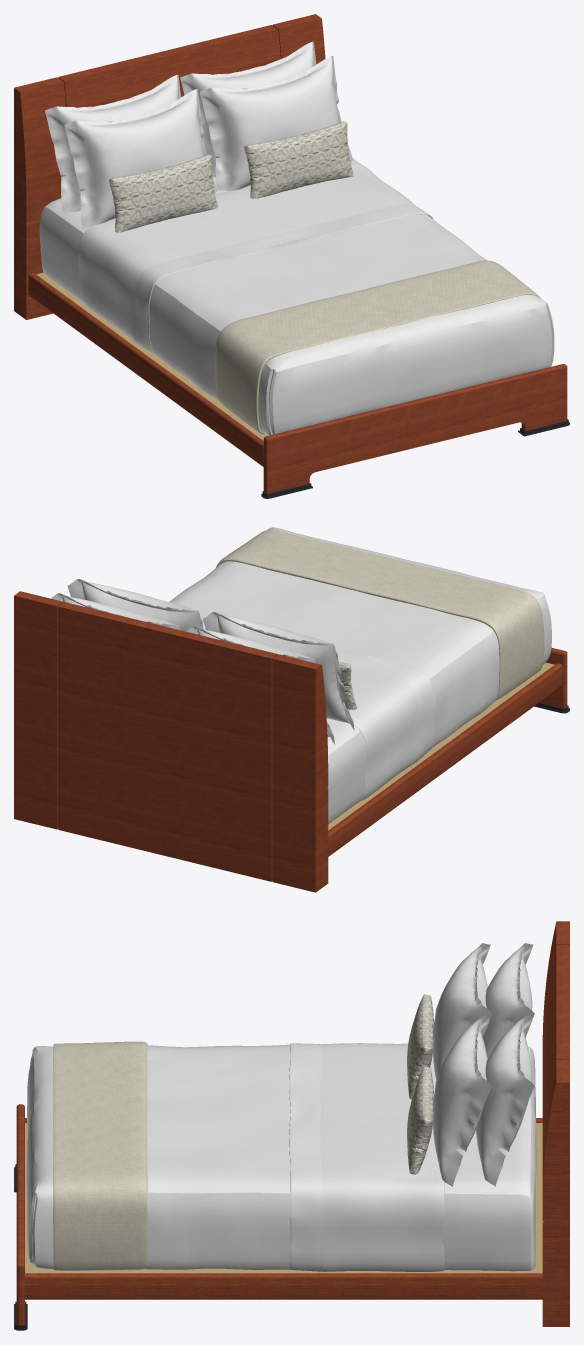
The model's file is 001_Muebleria-La-Autentica.glb.
3 renders of one model, top to bottom at view 1: azimuth 30°, elevation 25°; view 2: azimuth 150°, elevation 25°; view 3: azimuth 270°, elevation 25°, orthographic. The views are drawn at different scales.
Parts seen in each view (by area): view 1: root; view 2: root; view 3: root.
Part boxes in pixels (<box>): root: <box>14,14,569,498</box>; root: <box>14,527,569,892</box>; root: <box>14,921,569,1330</box>.
Bounding box in the file's own units: 1.42 × 1 × 2.04.
6 materials, 5 textured.
